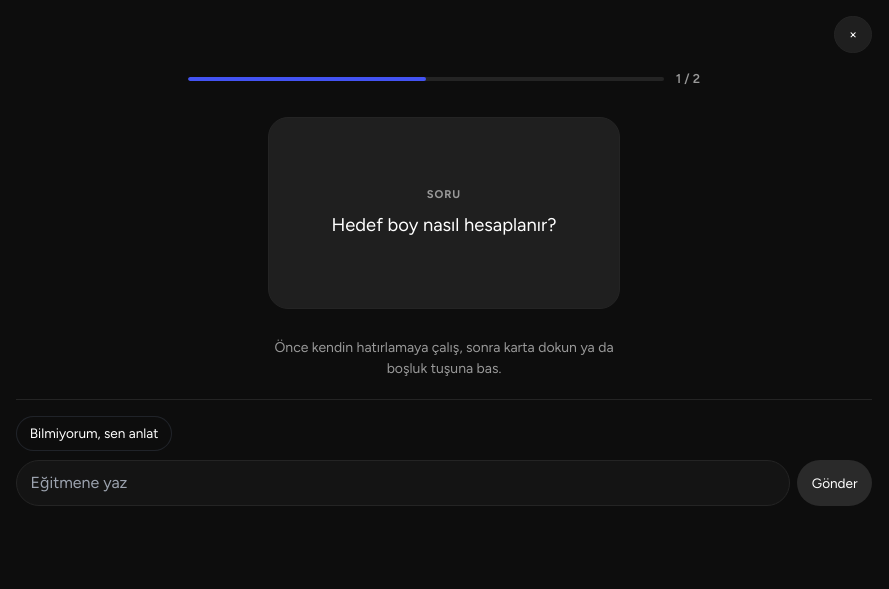
Test: exam-prep flashcards — reveal before self-assessment › keeps the self-assessment available if the student flips back to the question side
Expected: the text "Hedef boy nasıl hesaplanır?" is shown, [332,214,556,236]
Click the button with aria-label "Kartı çevir, cevabı göster". click: (444, 213)
box: [268,117,620,309]
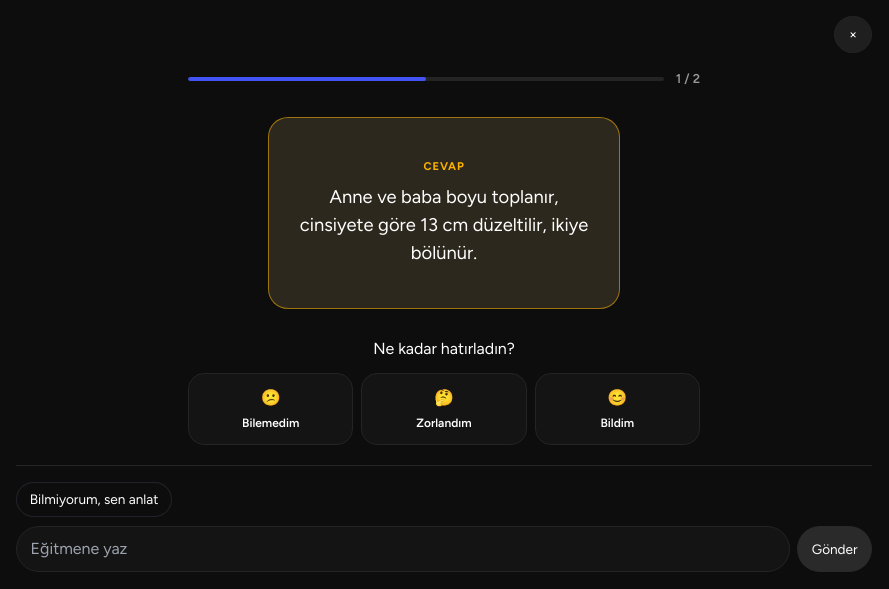
Click the button with aria-label "Kartı soru yüzüne çevir". click: (444, 213)
box: [268,117,620,309]
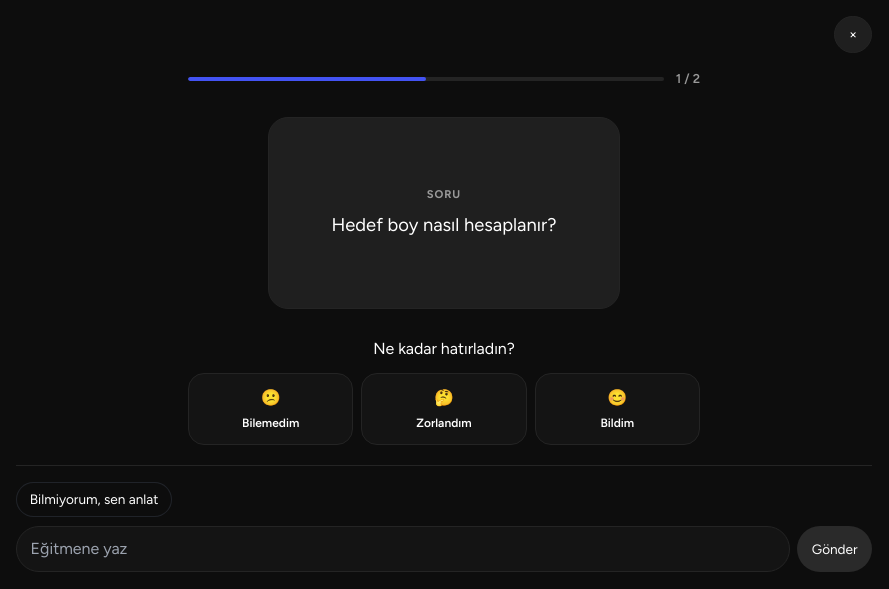
Result: the button "😊 Bildim" is shown at [535,373,700,445]
Result: the text "Hedef boy nasıl hesaplanır?" is shown at [332,214,556,236]
